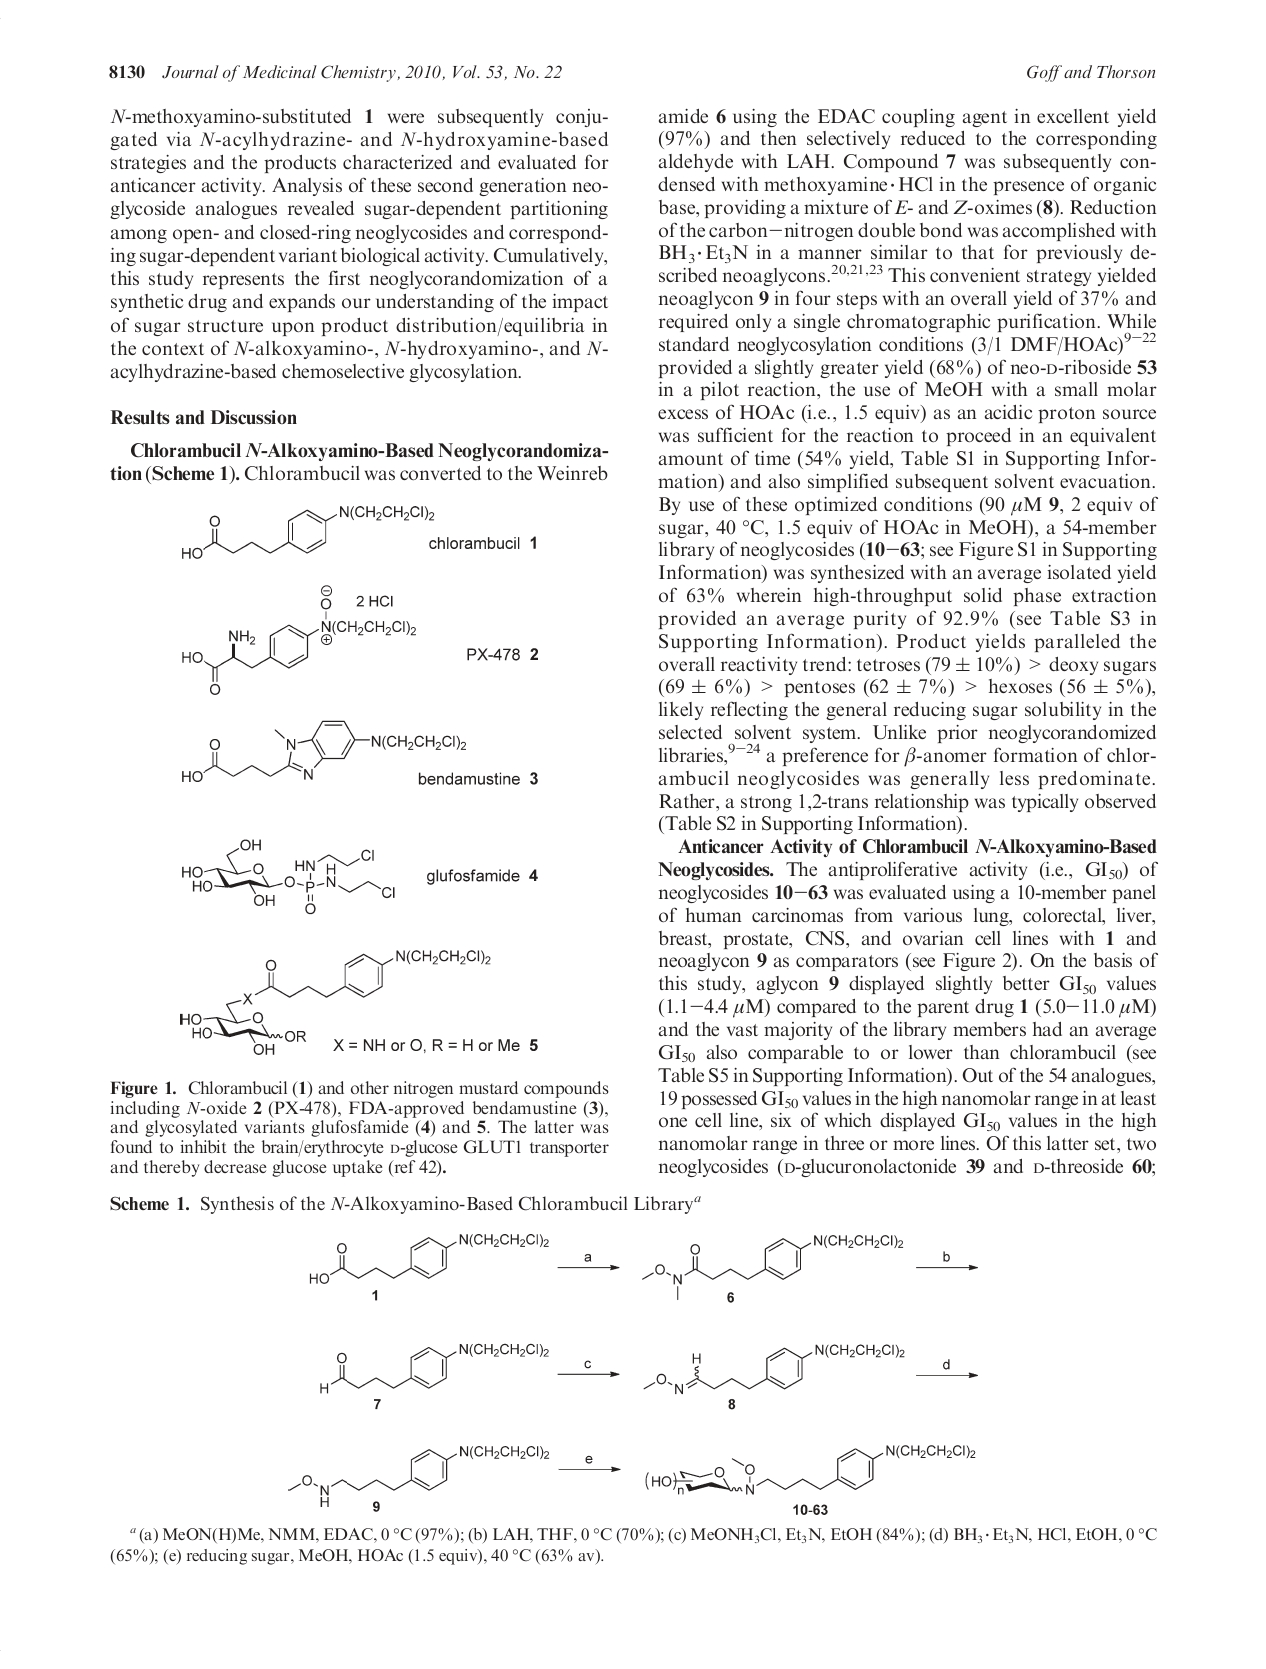exist_molecular: (176, 946, 492, 1059), (180, 580, 422, 700), (176, 717, 471, 787), (638, 1229, 906, 1301), (644, 1440, 977, 1497), (285, 1439, 553, 1508), (180, 838, 396, 916), (180, 500, 438, 564), (644, 1337, 908, 1396), (306, 1229, 551, 1289), (316, 1341, 539, 1396)
